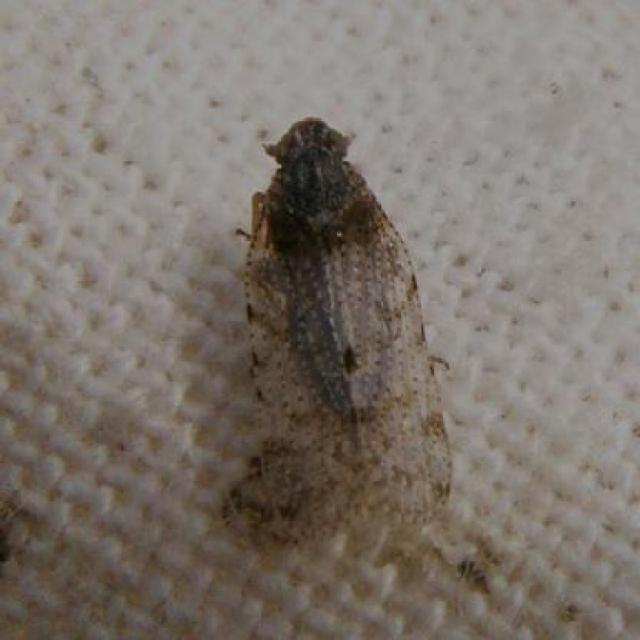brown-planthopper: (252, 110, 452, 528)
